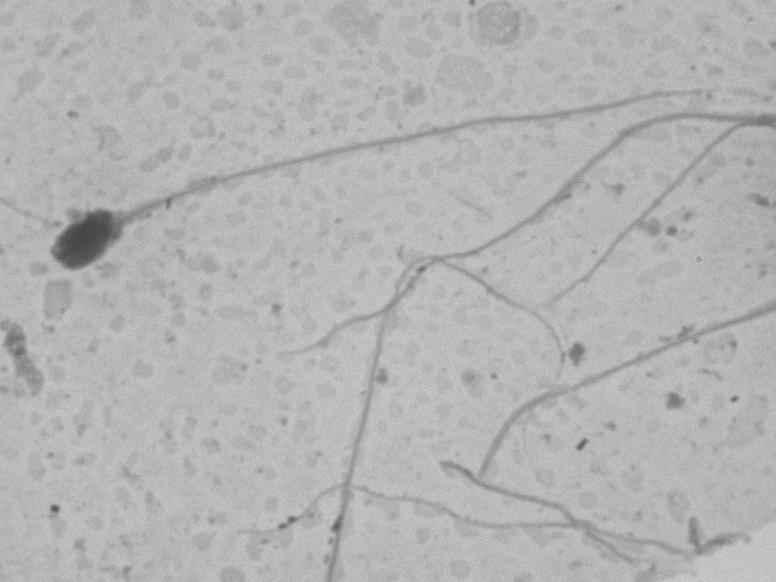Abnormal: (36, 60, 765, 283)
